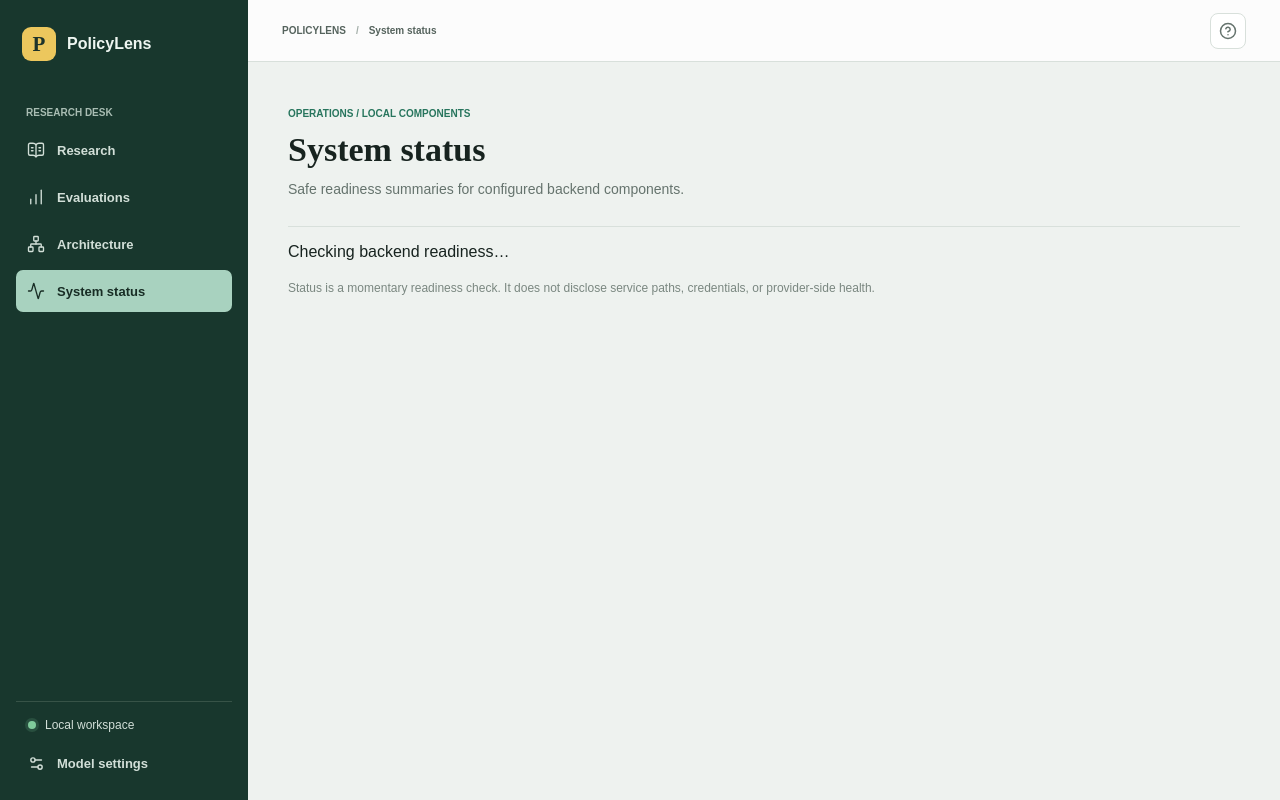
Test: system status › shows component details returned with a degraded HTTP 503
Step 1. Click the link "System status" → coordinates (124, 291), box left=16, top=270, right=232, bottom=312
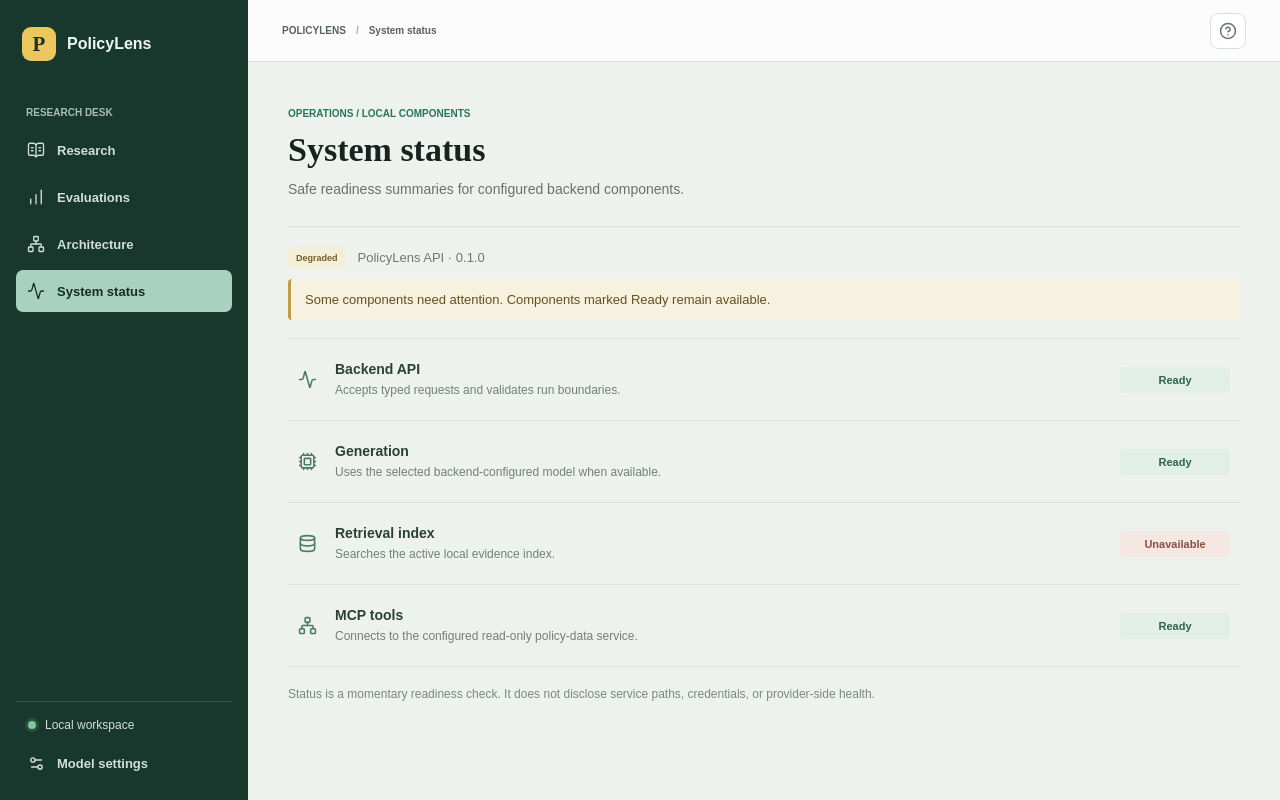
Expected: the text "Degraded" is shown, left=288, top=247, right=346, bottom=269
Expected: the text "Ready" in the row of "Backend API" is shown, left=1158, top=374, right=1192, bottom=386
Expected: the text "Unavailable" is shown, left=1120, top=531, right=1230, bottom=557
